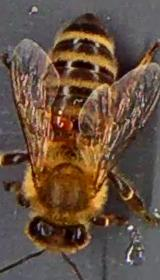varroa_mite: (44, 110, 80, 132)
